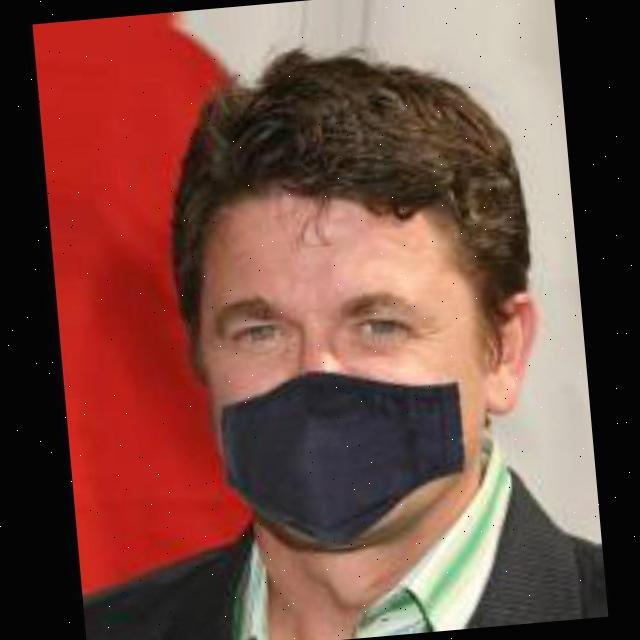suspicion: (127, 82, 552, 569)
